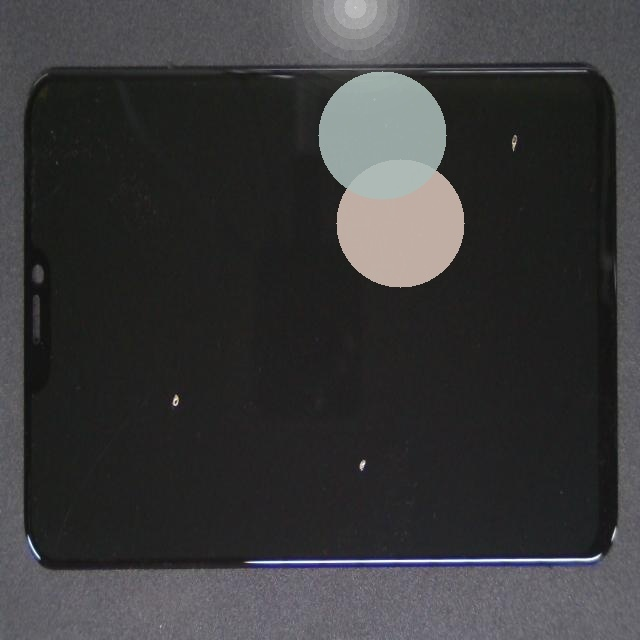stain: (196, 192, 533, 640), (98, 170, 247, 581), (281, 36, 640, 178)
